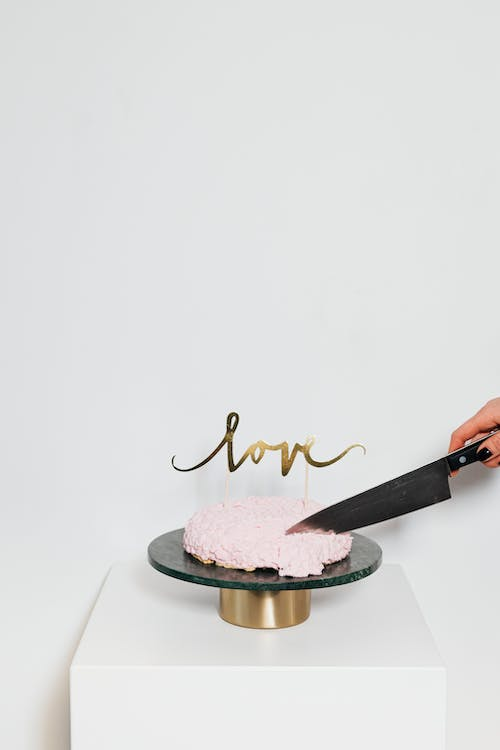knife: (282, 427, 500, 535)
